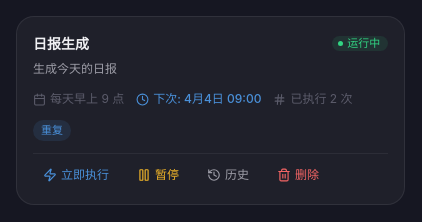
Scenario: TasksView › pauses and resumes an active job from the card actions
Click the button "暂停": coordinates (158, 174) [127,162,189,188]
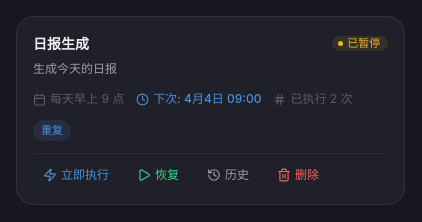
Result: the text "已暂停" is shown at [332,36,388,51]
Click the button "恢复": coordinates (158, 174) [127,162,189,188]
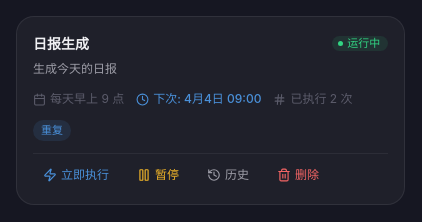
Result: the text "运行中" is shown at [332,36,388,51]
